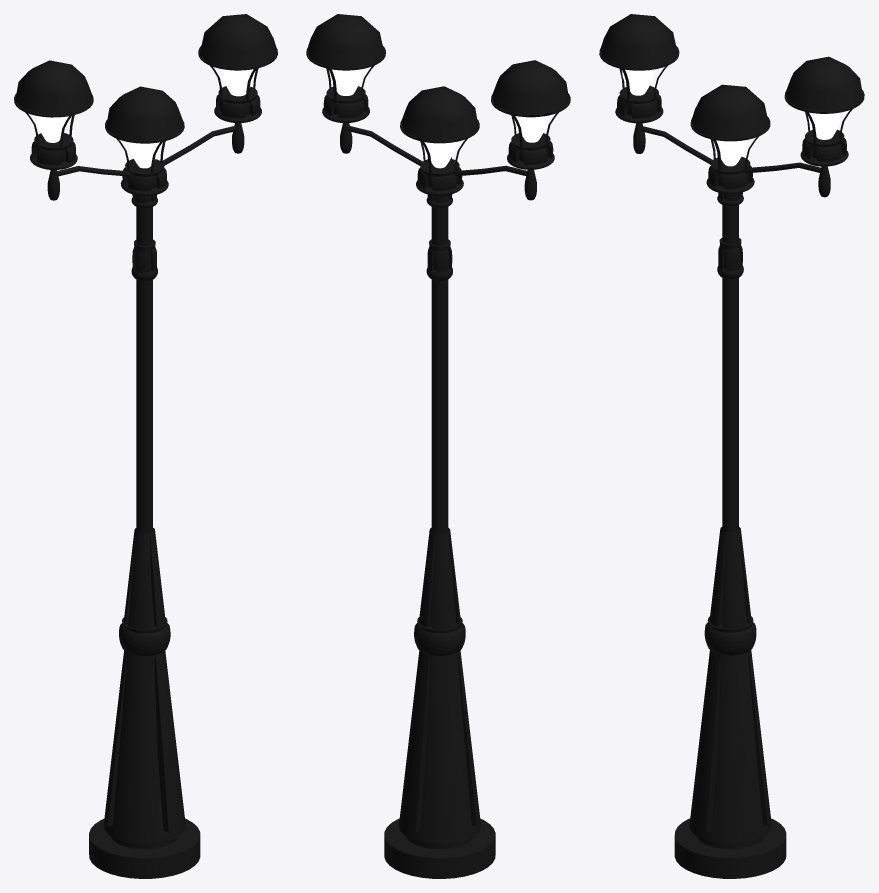
3 renders of one model, left to right at view 1: azimuth 30°, elevation 25°; view 2: azimuth 150°, elevation 25°; view 3: azimuth 330°, elevation 25°, orthographic.
Visible parts, largest first — view 1: Stand, Light; view 2: Stand, Light; view 3: Stand, Light.
Part boxes in pixels (x1,y1,x2,y2): Stand: [14, 14, 277, 878]; Light: [36, 69, 254, 168]; Stand: [306, 14, 570, 878]; Light: [330, 69, 547, 168]; Stand: [599, 14, 864, 878]; Light: [622, 69, 840, 166].
Size of the model in its own units: 1.12 by 3.45 by 0.4276.
2 materials, 1 textured.
